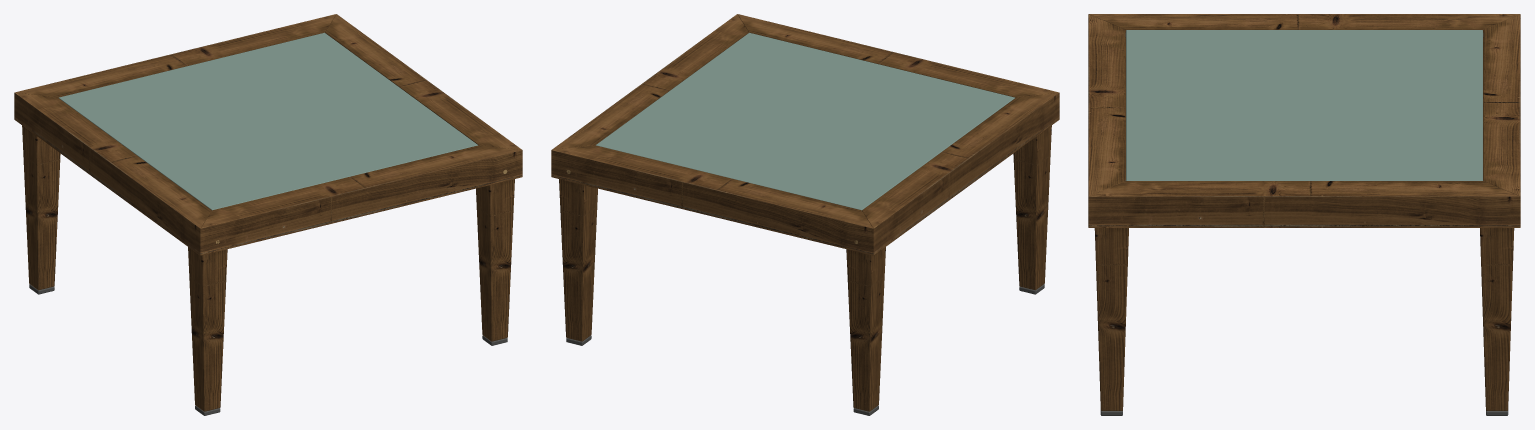
File: coffee_table.glb
3 views of the same model, side by side, from view 1: azimuth 30°, elevation 25°; view 2: azimuth 150°, elevation 25°; view 3: azimuth 270°, elevation 25° (orthographic). The views are drawn at different scales.
Parts seen in each view (by area): view 1: TableOakAssembly, TableGlazingAssembly; view 2: TableOakAssembly, TableGlazingAssembly; view 3: TableGlazingAssembly, TableOakAssembly.
Part boxes in pixels (<box>): TableOakAssembly: <box>14,14,522,411</box>; TableGlazingAssembly: <box>59,32,477,210</box>; TableOakAssembly: <box>551,14,1059,411</box>; TableGlazingAssembly: <box>596,32,1014,210</box>; TableGlazingAssembly: <box>1126,30,1482,180</box>; TableOakAssembly: <box>1088,14,1520,410</box>.
Size of the model in its own units: 3.5 by 2.01 by 3.5.
4 materials, 1 textured.
